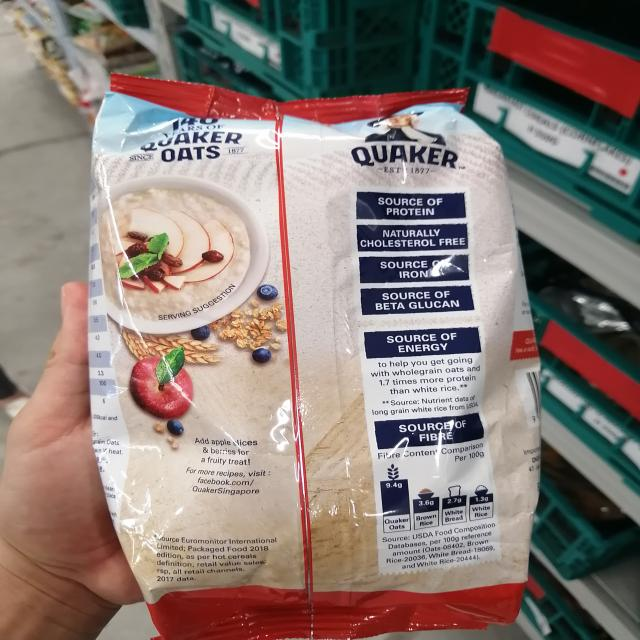object_name: (97, 87, 521, 631)
